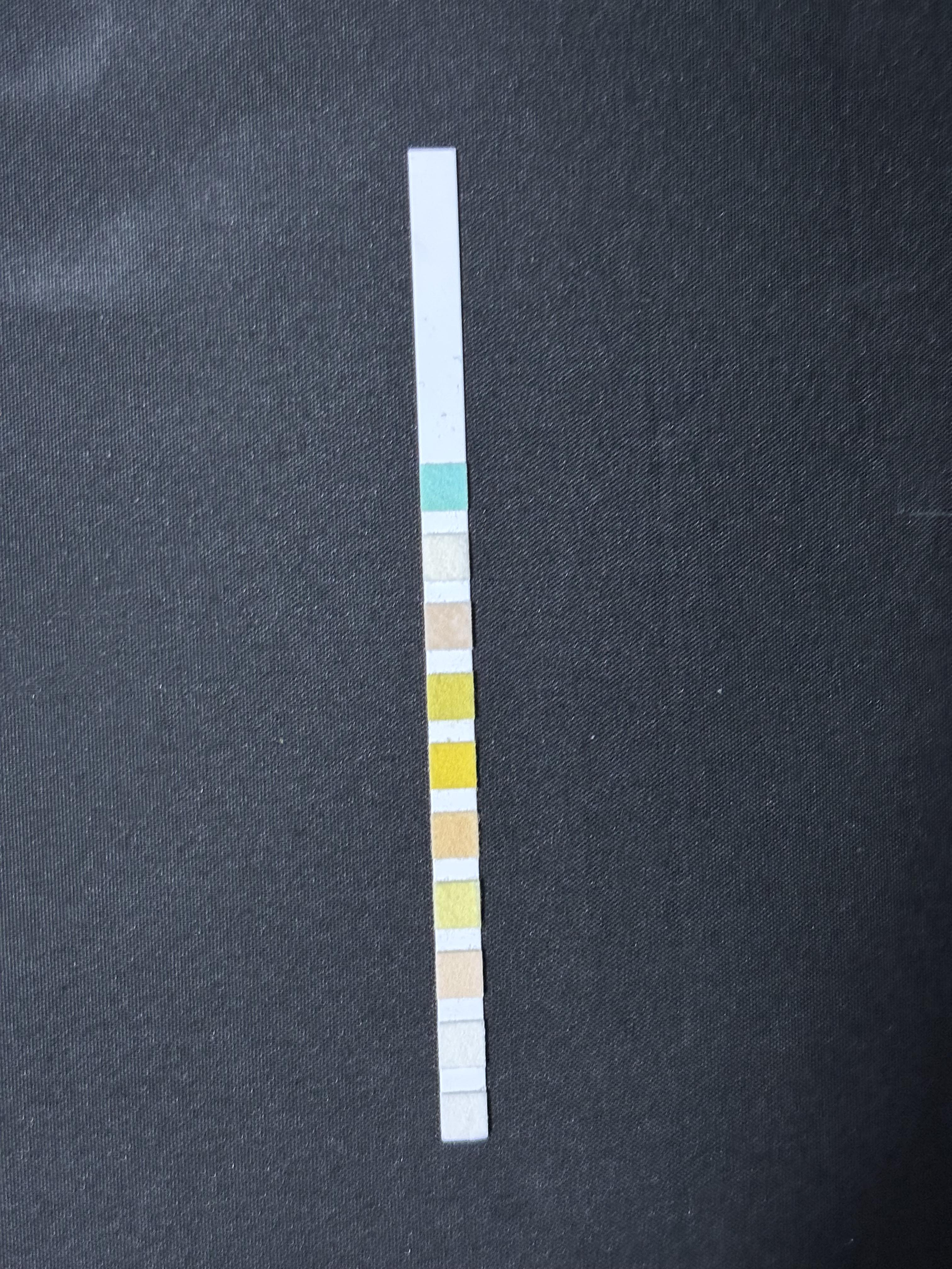Bilirubin: (423, 536, 468, 580)
Blood: (430, 744, 476, 787)
Glucose: (420, 465, 467, 510)
Ketone: (425, 603, 471, 648)
Leukocytes: (442, 1095, 486, 1138)
Nitrite: (439, 1024, 484, 1066)
Protein: (435, 883, 480, 927)
SpGravity: (428, 674, 473, 719)
Urobilinogen: (437, 953, 482, 996)
pH: (432, 814, 478, 856)
strip: (408, 148, 488, 1141)
